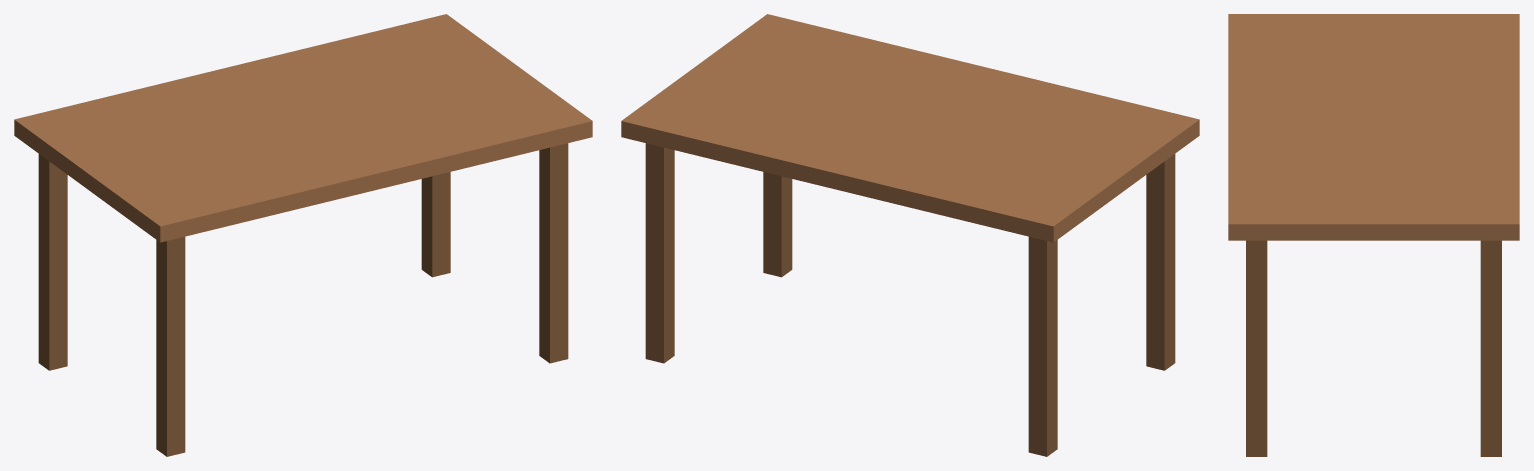
The model's file is dining.glb.
3 views of the same model, side by side, from view 1: azimuth 30°, elevation 25°; view 2: azimuth 150°, elevation 25°; view 3: azimuth 270°, elevation 25° (orthographic).
Visible parts, largest first — view 1: dining; view 2: dining; view 3: dining.
Boxes of the visible parts, <box> form: dining: <box>14,14,592,456</box>; dining: <box>621,14,1199,456</box>; dining: <box>1228,14,1519,456</box>.
Size of the model in its own units: 1.4 by 0.745 by 0.82.
